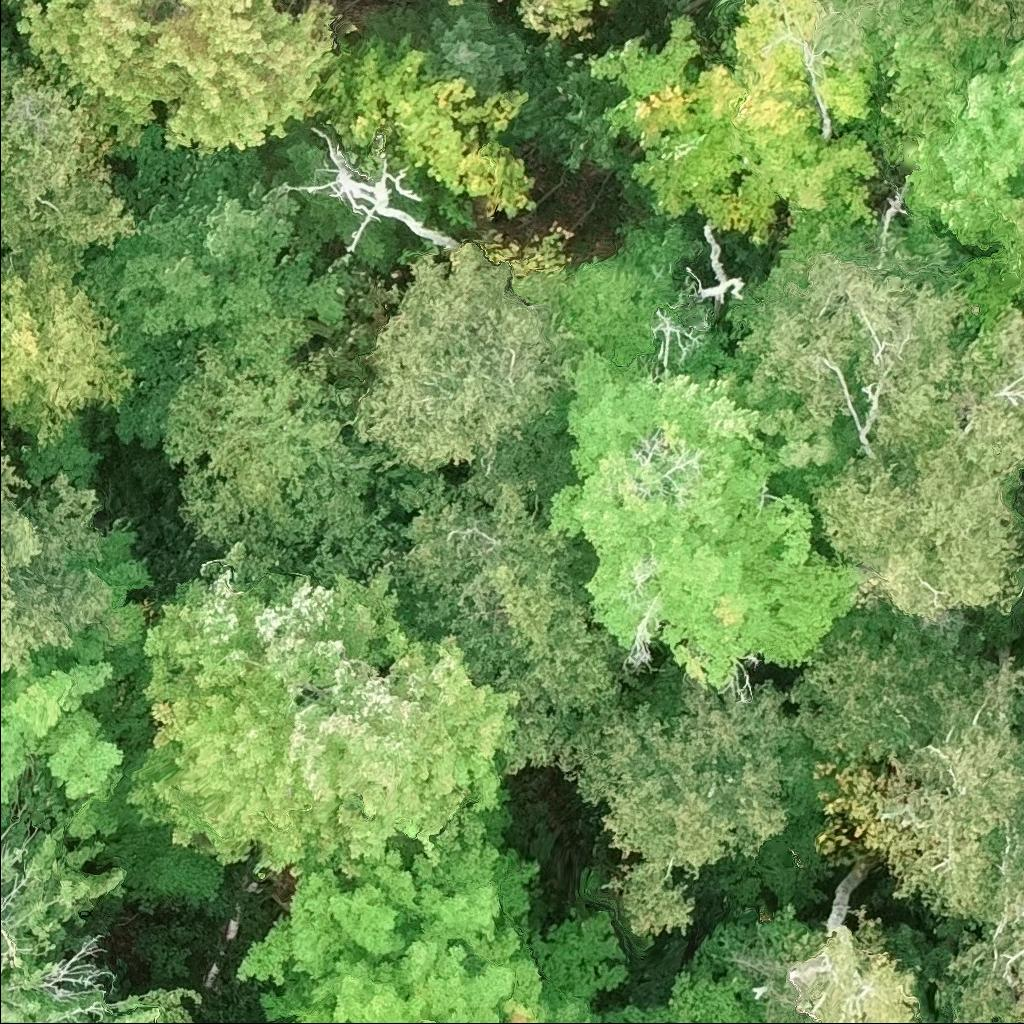crown: (130, 560, 525, 892), (545, 345, 869, 690), (77, 106, 351, 450), (577, 0, 880, 247), (389, 473, 630, 781), (576, 679, 800, 938), (815, 648, 1023, 925), (233, 809, 544, 989), (12, 0, 343, 154), (352, 238, 564, 477), (0, 531, 160, 841), (161, 342, 369, 554), (758, 251, 969, 454), (320, 29, 538, 222), (0, 817, 203, 1023), (810, 433, 1023, 626), (0, 37, 141, 269), (884, 36, 1023, 249), (258, 923, 548, 1023), (791, 605, 966, 766), (0, 431, 110, 679), (0, 245, 131, 445), (929, 819, 1023, 1023), (365, 0, 529, 103), (785, 912, 916, 1023), (603, 951, 770, 1023), (956, 312, 1023, 483), (532, 907, 627, 1023), (820, 29, 894, 164), (283, 187, 360, 272), (259, 118, 332, 187), (515, 0, 616, 46), (965, 0, 1023, 42), (823, 0, 908, 24), (1008, 195, 1023, 240), (0, 0, 27, 7), (446, 0, 467, 6)
